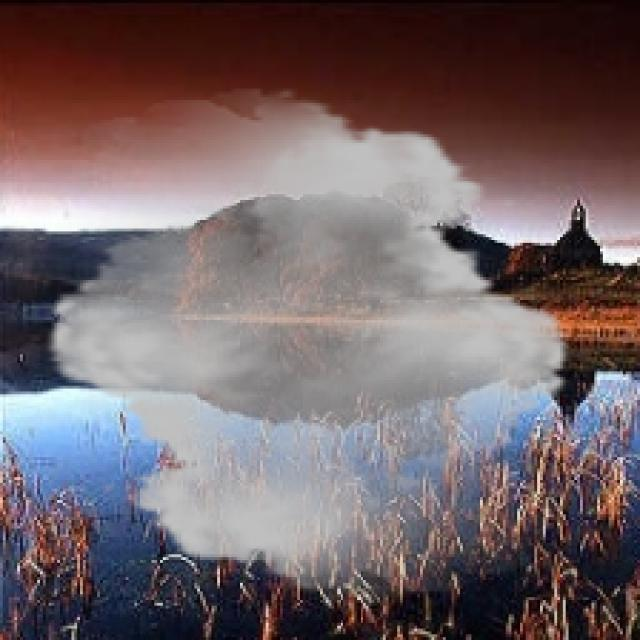smoke: (26, 88, 591, 603)
